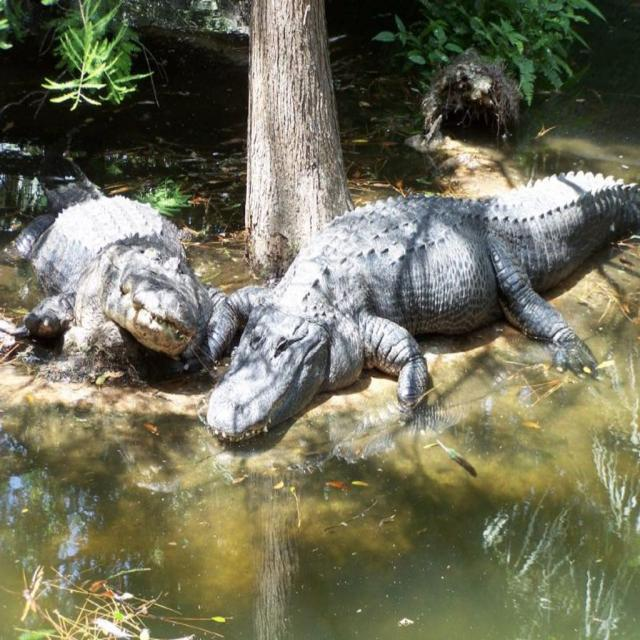crocodile: (205, 169, 636, 450), (30, 198, 215, 345)
